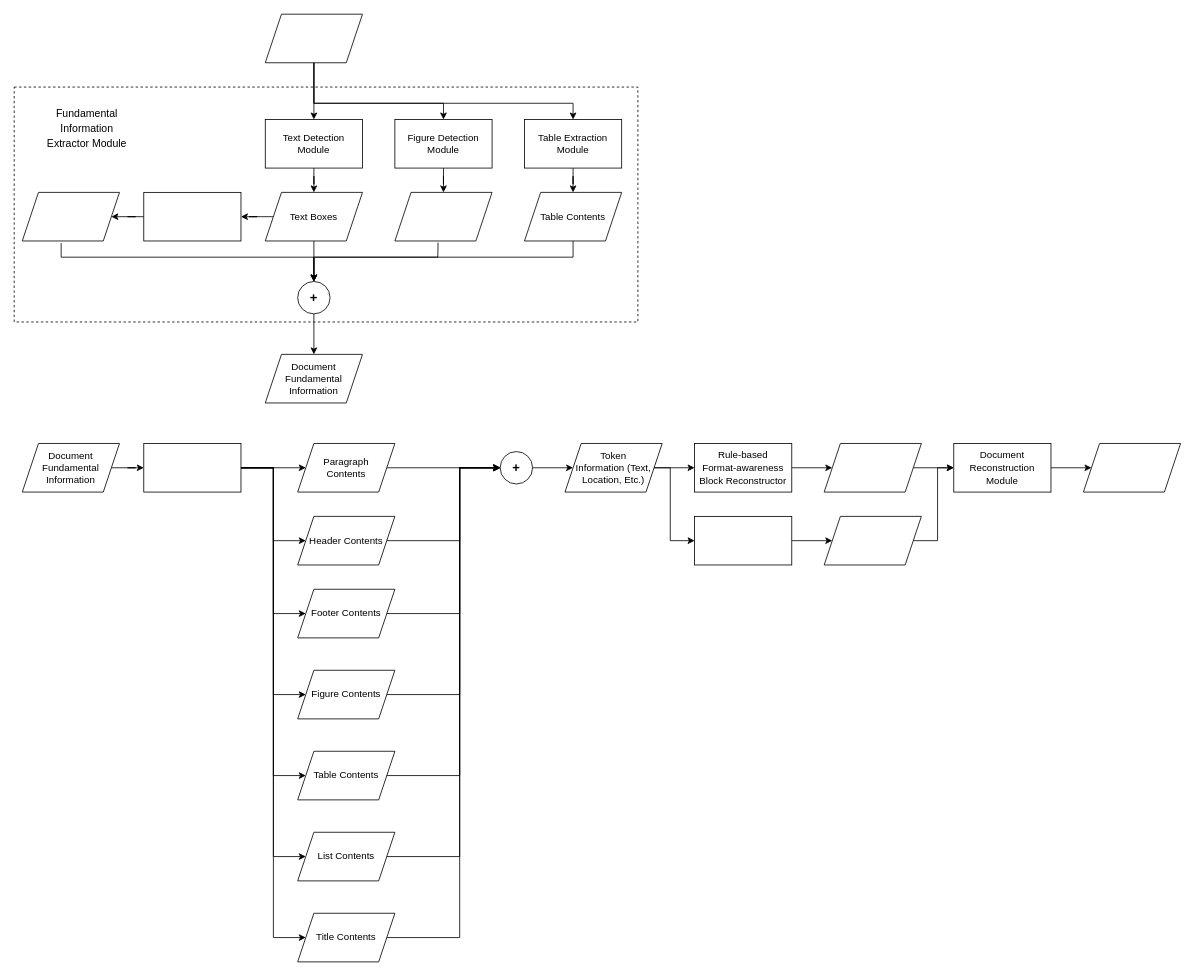
Some shapes in this 1195 by 976 pixel diagram are drawn without their labels. The box of each missing label's shape, as (x1, y1, x2, y2) in pixels:
.doc/docx file: (1083, 443, 1181, 492)
Document Layout Analysis Module: (143, 443, 241, 492)
Figure Boxes: (394, 192, 492, 241)
Font style for each Text Block: (823, 516, 921, 565)
Format for each Text Block: (823, 443, 921, 492)
Input Scanned Document: (264, 13, 362, 63)
Recognized Words: (21, 192, 119, 241)
Text Font Classification Module: (694, 516, 792, 565)
Text Recognition Module: (143, 192, 241, 241)
